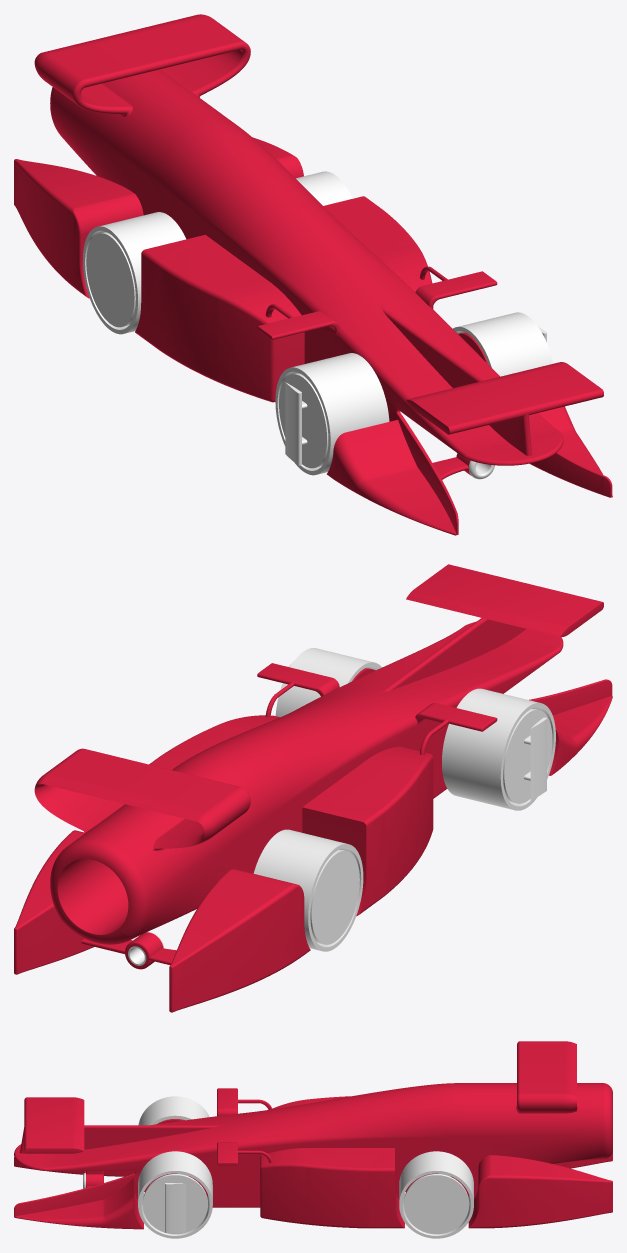
3 renders of one model, top to bottom at view 1: azimuth 30°, elevation 25°; view 2: azimuth 150°, elevation 25°; view 3: azimuth 270°, elevation 25°, orthographic. The views are drawn at different scales.
Parts seen in each view (by area): view 1: 10 P2.5 Assembly, 10 P2.5 Assembly.004, 10 P2.5 Assembly.001, 10 P2.5 Assembly.003, 10 P2.5 Assembly.002; view 2: 10 P2.5 Assembly, 10 P2.5 Assembly.004, 10 P2.5 Assembly.001, 10 P2.5 Assembly.003; view 3: 10 P2.5 Assembly, 10 P2.5 Assembly.002, 10 P2.5 Assembly.003, 10 P2.5 Assembly.004.
Part boxes in pixels (x1,y1,x2,y2): 10 P2.5 Assembly: (14, 14, 612, 535); 10 P2.5 Assembly.004: (275, 353, 389, 475); 10 P2.5 Assembly.001: (83, 212, 185, 334); 10 P2.5 Assembly.003: (453, 312, 553, 376); 10 P2.5 Assembly.002: (296, 171, 352, 205); 10 P2.5 Assembly: (14, 564, 612, 1012); 10 P2.5 Assembly.004: (442, 688, 555, 810); 10 P2.5 Assembly.001: (253, 829, 363, 951); 10 P2.5 Assembly.003: (275, 648, 381, 717); 10 P2.5 Assembly: (14, 1041, 612, 1229); 10 P2.5 Assembly.002: (399, 1151, 473, 1238); 10 P2.5 Assembly.003: (138, 1151, 212, 1238); 10 P2.5 Assembly.004: (138, 1096, 209, 1125).
Bounding box in the file's own units: 12.26 × 9.29 × 37.67.
